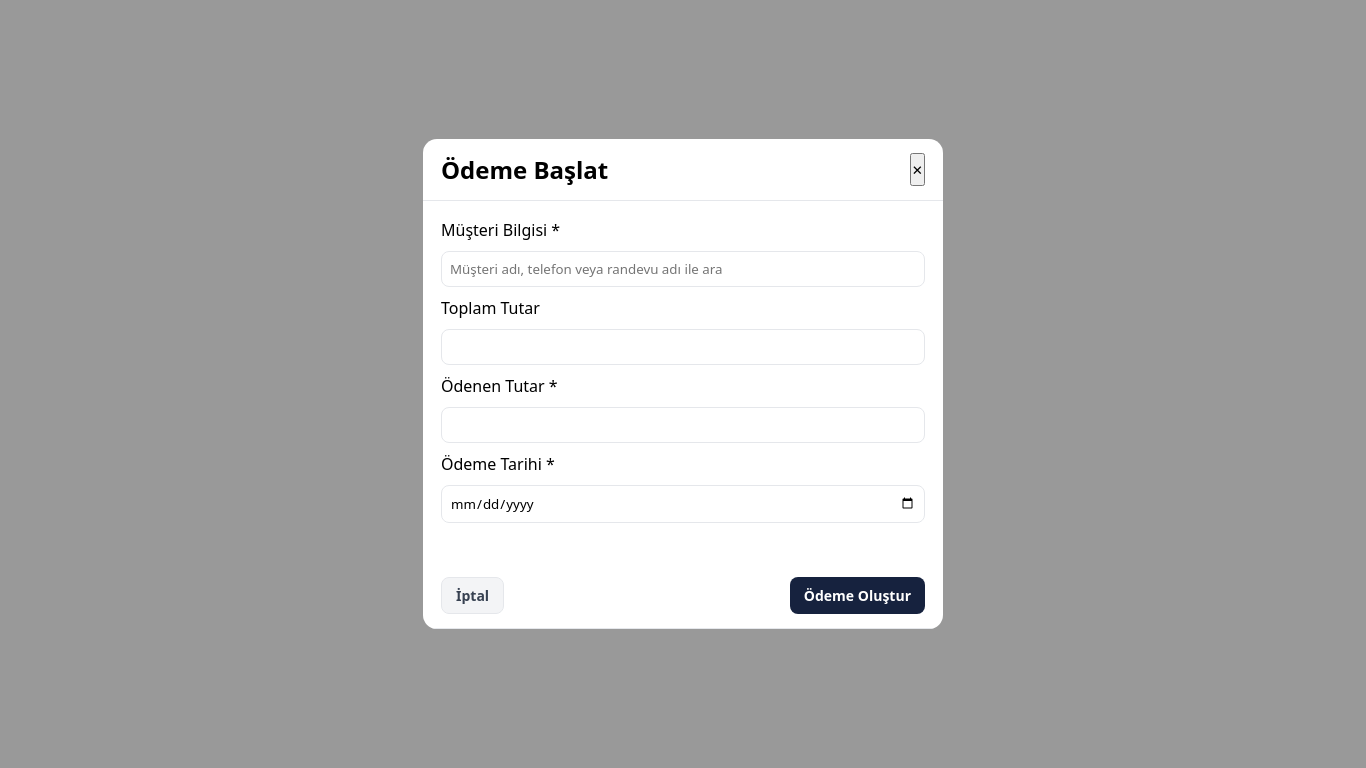
Test: AddPaymentModal › free search mode › searches (debounced) and renders results
This screenshot has width=1366, height=768.
Type "ali" into the field with placeholder "Müşteri adı, telefon veya randevu adı ile ara" at (683, 269), box x1=441 y1=251 x2=925 y2=287
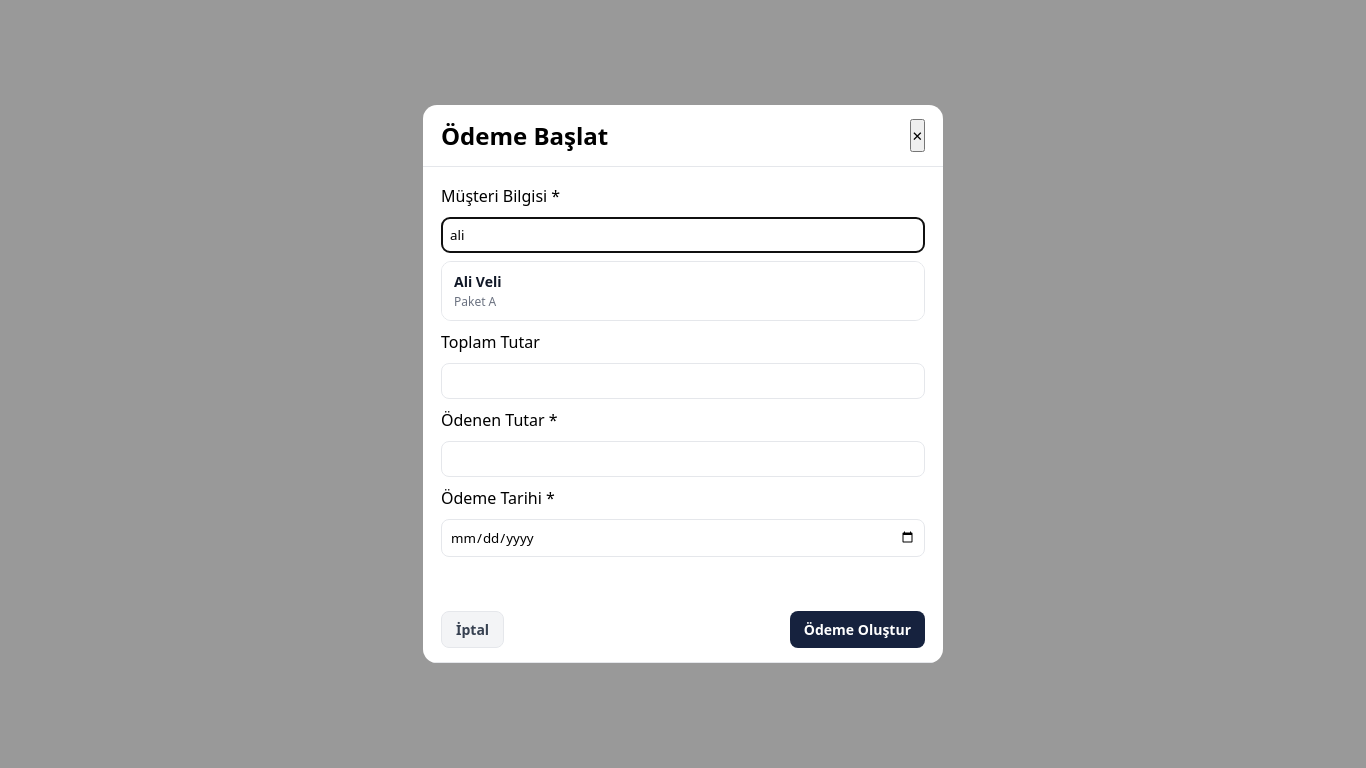
Check: the text "Ali Veli" is shown, box x1=454 y1=272 x2=502 y2=291
